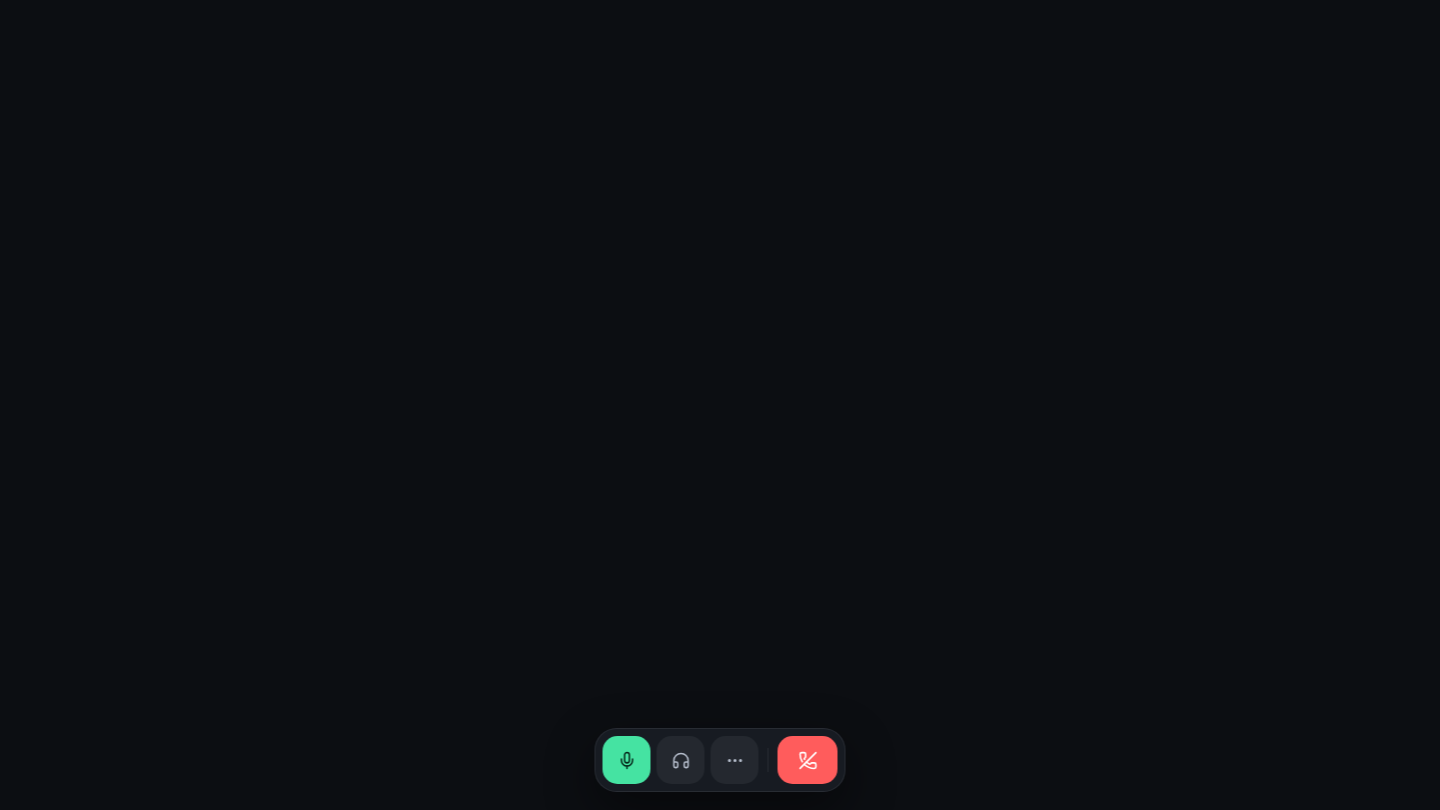
Test case: Dock › changes the voice from «⋯», in the call
Step 1. Click the button named "Ещё" → (734, 760), box [710,736,758,784]
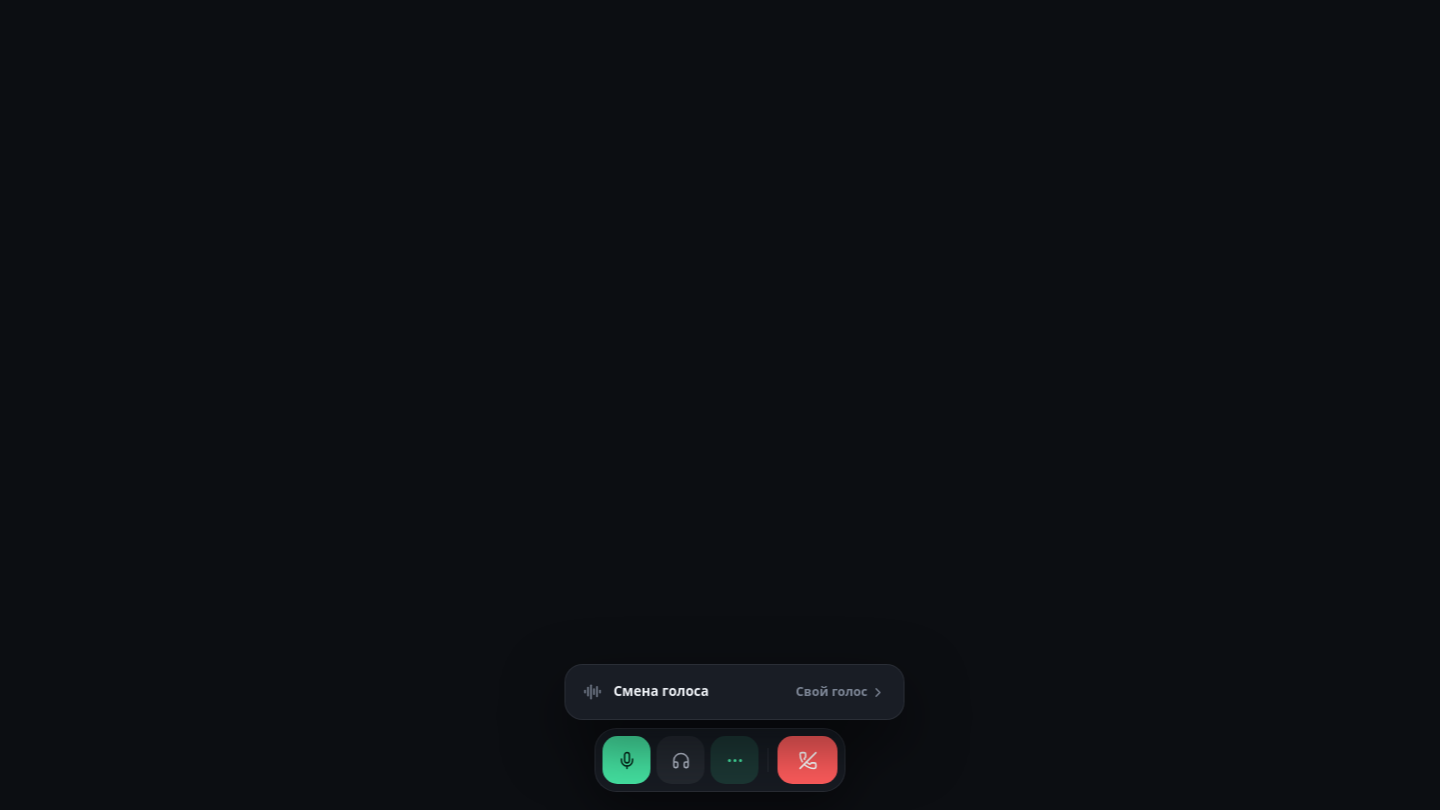
Step 2. Click the menu item "Смена голоса Свой голос" → (661, 691), box [572,671,898,713]
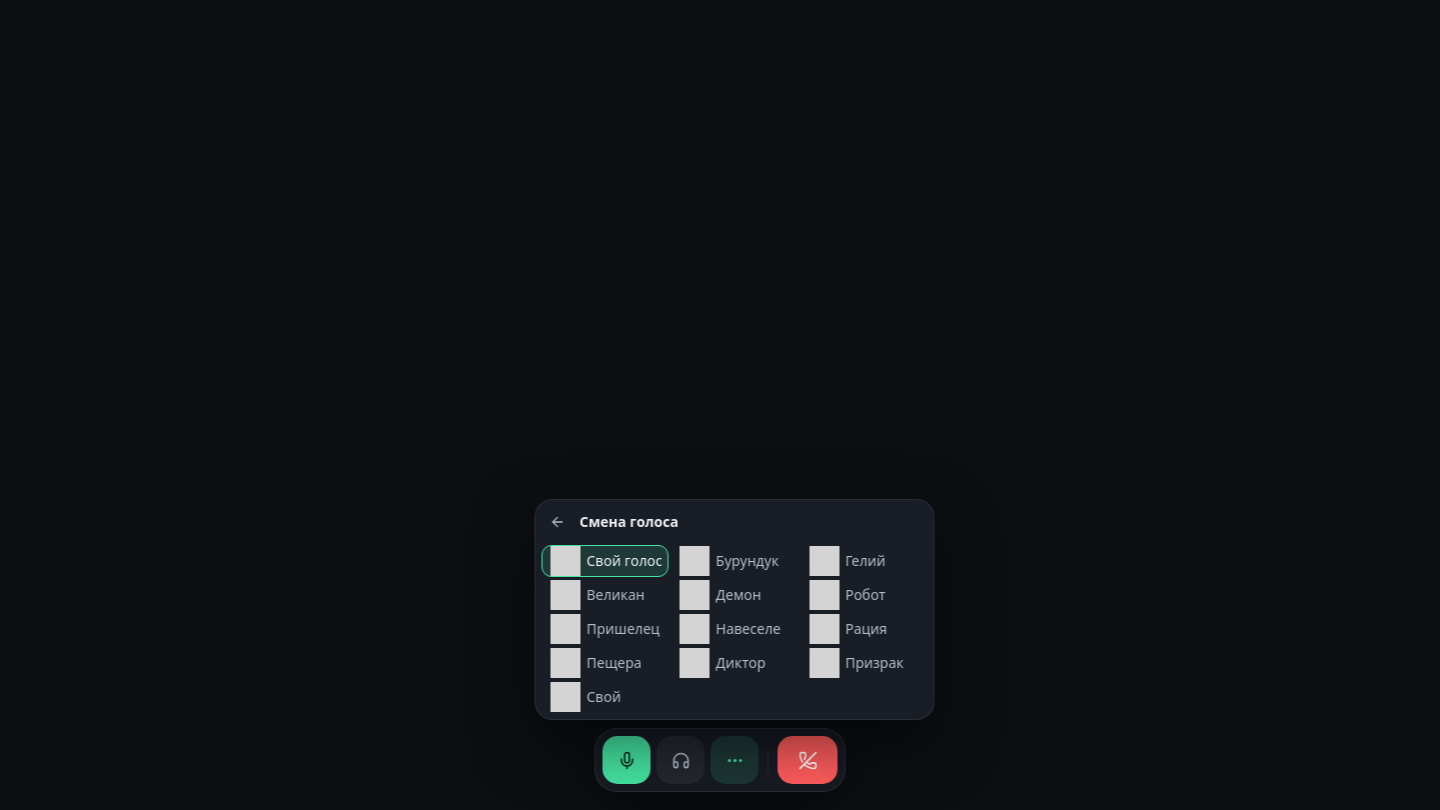
Step 3. Click the radio button labelled "Робот" → (864, 595), box [800,579,928,611]
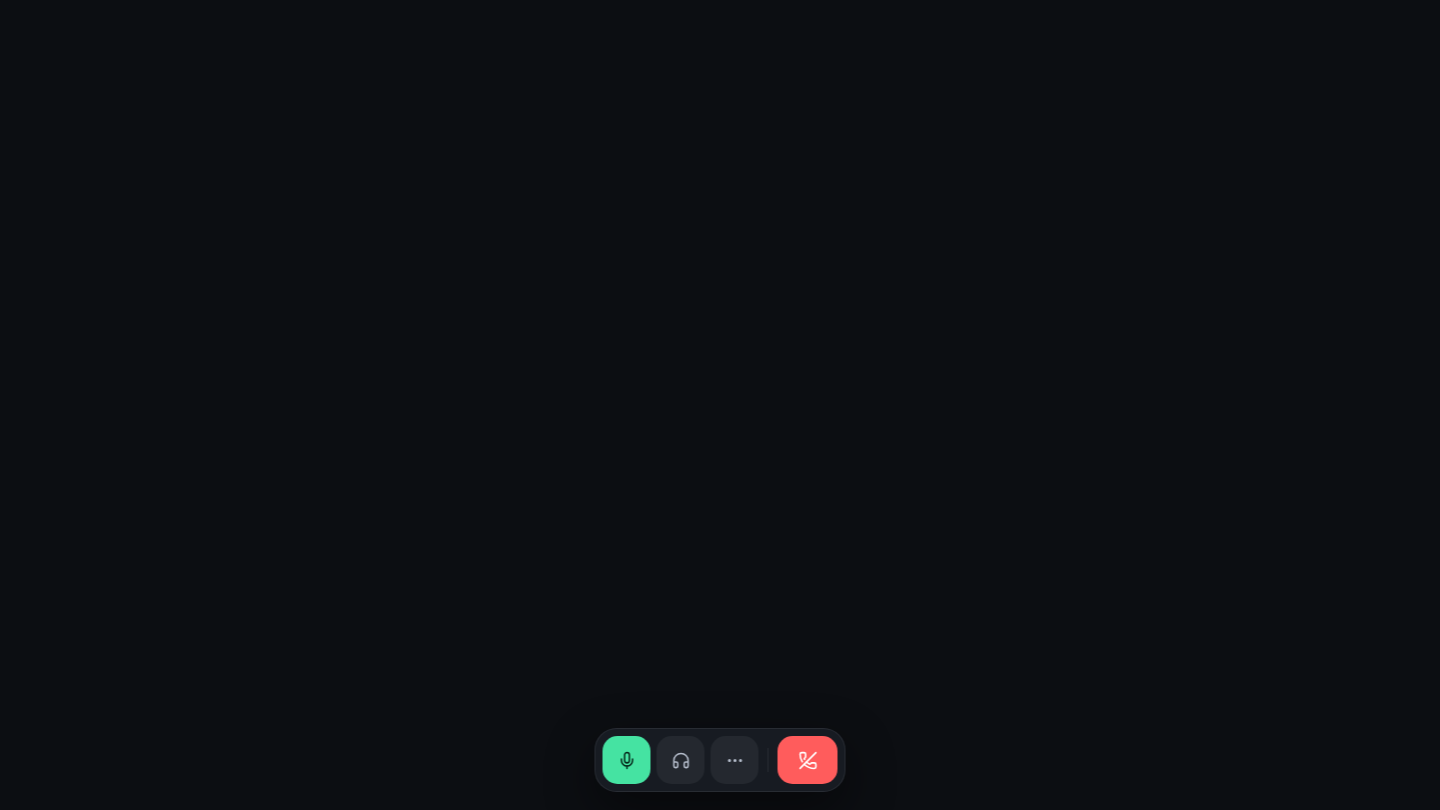
Expected: the text "Смена голоса" is gone
